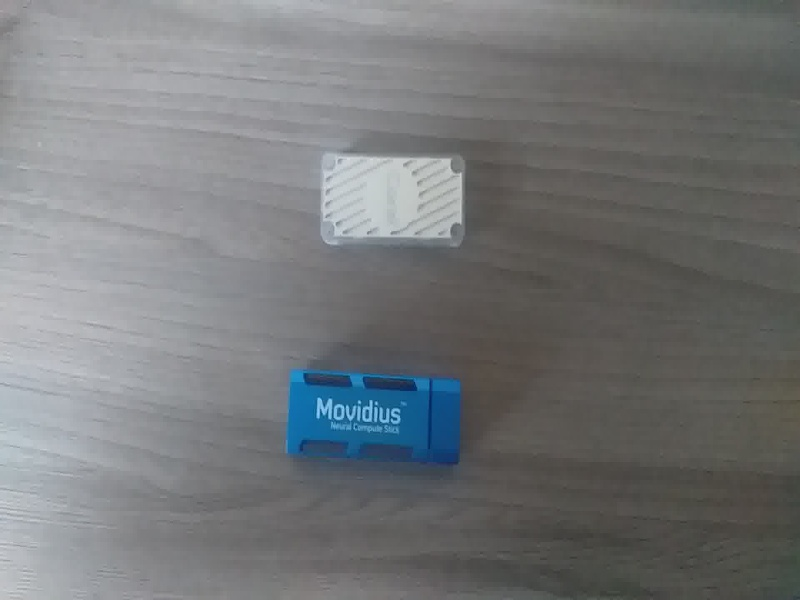coral: (315, 148, 470, 255)
movidius: (270, 363, 477, 472)
